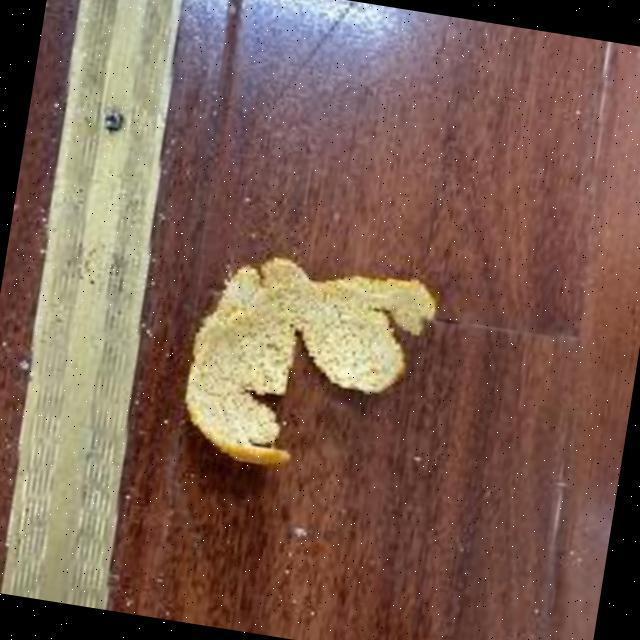orange-peel: (170, 236, 444, 492)
